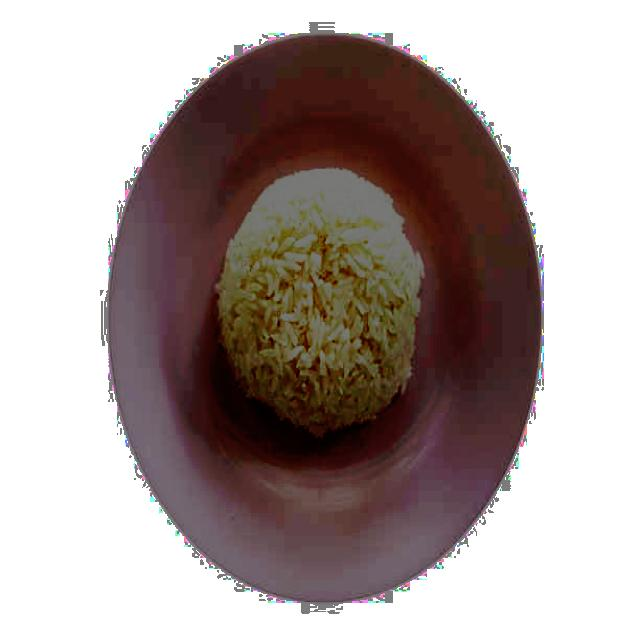rice: (218, 164, 424, 438)
